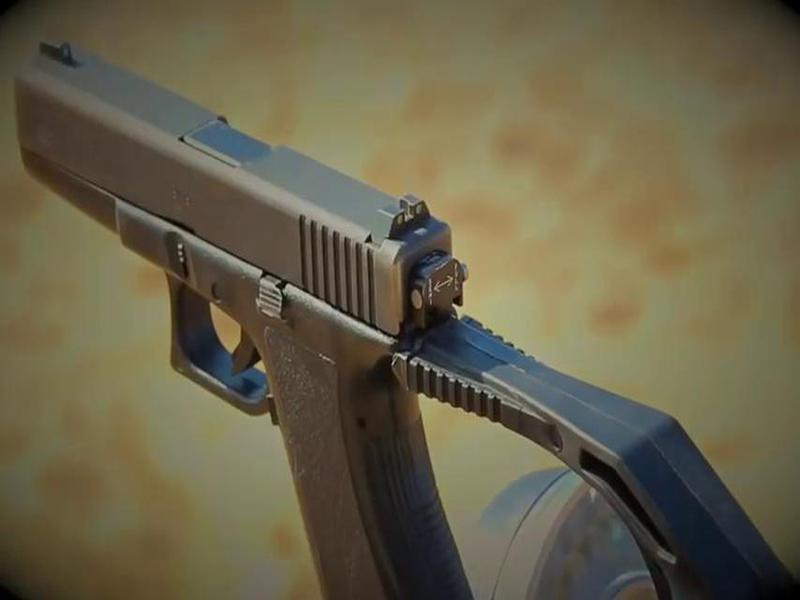Pistola: (17, 29, 467, 580)
